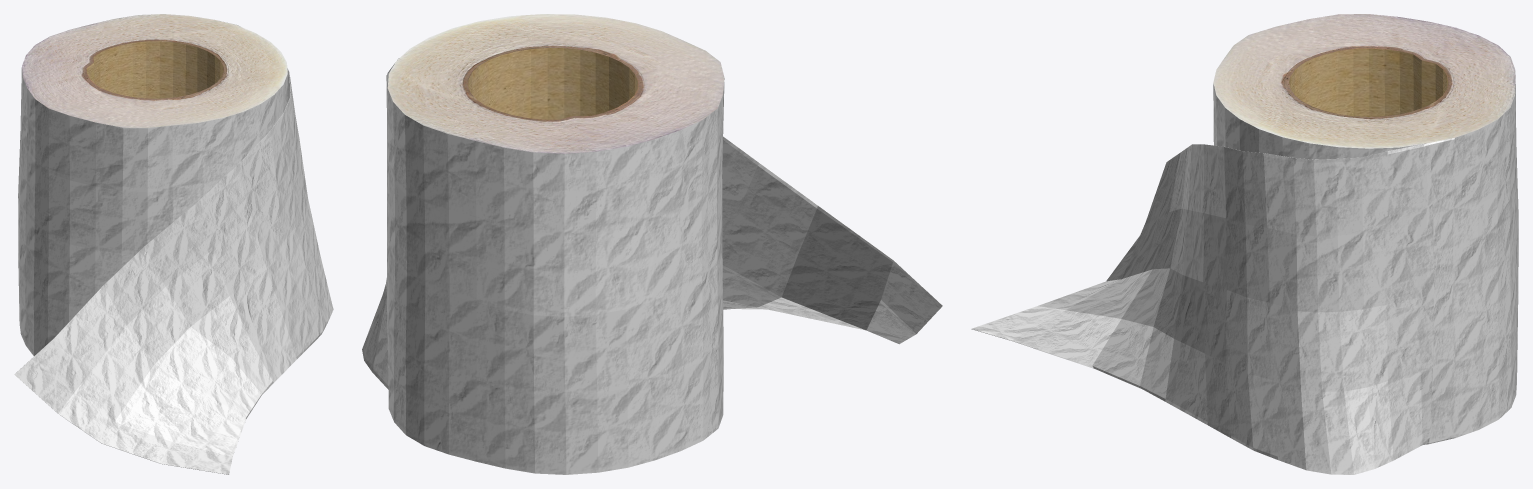
Rendered from 4_pape.glb.
3 renders of one model, left to right at view 1: azimuth 30°, elevation 25°; view 2: azimuth 150°, elevation 25°; view 3: azimuth 270°, elevation 25°, orthographic. The views are drawn at different scales.
Parts seen in each view (by area): view 1: Circle; view 2: Circle; view 3: Circle.
Part boxes in pixels (box(x1,y1,x2,y2)): Circle: box(14, 14, 333, 474); Circle: box(362, 14, 942, 474); Circle: box(971, 14, 1518, 474).
Size of the model in its own units: 0.1535 by 0.0979 by 0.1607.
3 materials, 3 textured.
